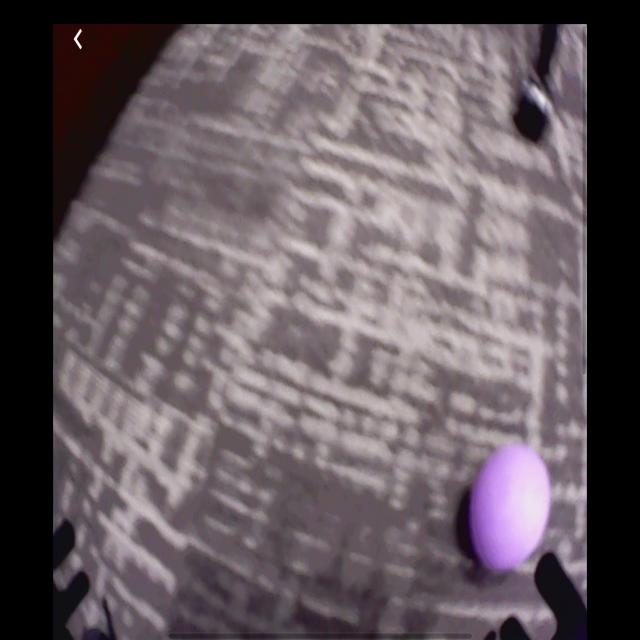ball: (469, 444, 552, 573)
